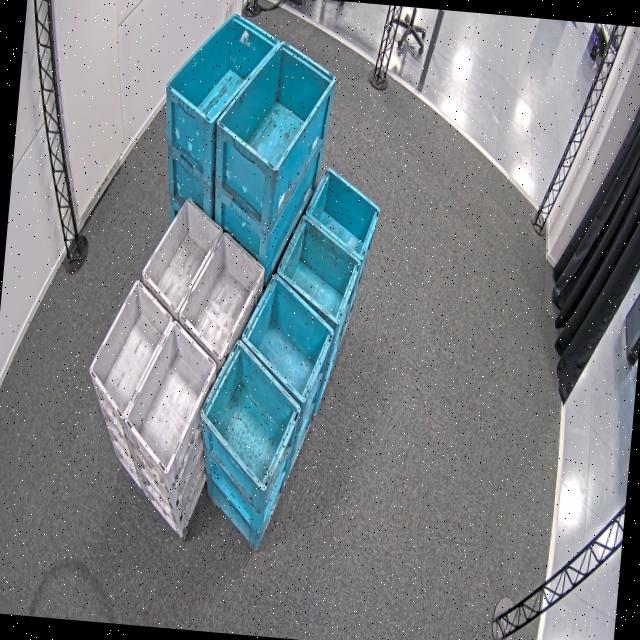Roll8G: (80, 274, 222, 480), (134, 195, 270, 363)
RollB4: (212, 34, 340, 175), (162, 5, 282, 130)
RollB8: (192, 265, 338, 496), (271, 160, 384, 330)
